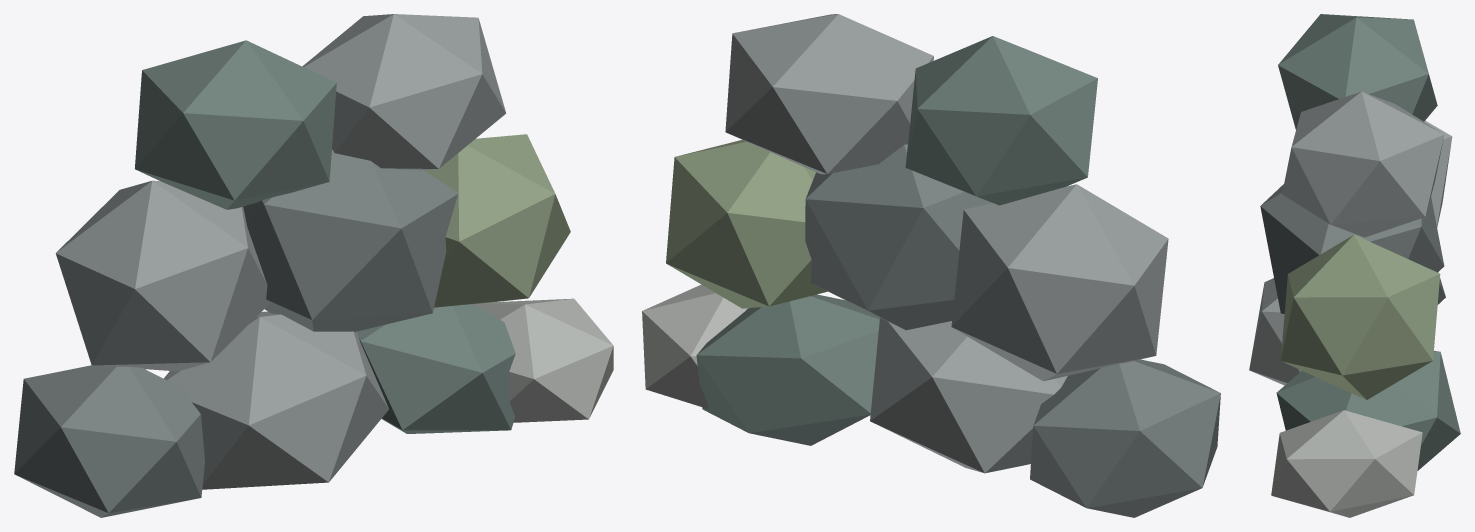
The model's file is collapsed_passage_4x3.glb.
The picture shows the model from 3 angles, left to right: view 1: azimuth 30°, elevation 25°; view 2: azimuth 150°, elevation 25°; view 3: azimuth 270°, elevation 25°; orthographic projection. The views are drawn at different scales.
Parts seen in each view (by area): view 1: collapsed_passage_05, collapsed_passage_06, collapsed_passage_08, collapsed_passage_02, collapsed_passage_01, collapsed_passage_09, collapsed_passage_07, collapsed_passage_03, collapsed_passage_04; view 2: collapsed_passage_05, collapsed_passage_08, collapsed_passage_09, collapsed_passage_01, collapsed_passage_06, collapsed_passage_03, collapsed_passage_07, collapsed_passage_02, collapsed_passage_04; view 3: collapsed_passage_07, collapsed_passage_09, collapsed_passage_04, collapsed_passage_08, collapsed_passage_03, collapsed_passage_06, collapsed_passage_02, collapsed_passage_05.
Boxes of the visible parts, bbox=[...] form: collapsed_passage_05: bbox=[55, 180, 269, 371]; collapsed_passage_06: bbox=[243, 149, 458, 331]; collapsed_passage_08: bbox=[135, 40, 336, 209]; collapsed_passage_02: bbox=[164, 311, 388, 489]; collapsed_passage_01: bbox=[14, 365, 204, 517]; collapsed_passage_09: bbox=[302, 14, 506, 170]; collapsed_passage_07: bbox=[423, 134, 570, 307]; collapsed_passage_03: bbox=[357, 304, 515, 433]; collapsed_passage_04: bbox=[474, 298, 613, 422]; collapsed_passage_05: bbox=[951, 184, 1168, 381]; collapsed_passage_08: bbox=[905, 36, 1097, 205]; collapsed_passage_09: bbox=[725, 14, 933, 174]; collapsed_passage_01: bbox=[1030, 359, 1220, 517]; collapsed_passage_06: bbox=[805, 144, 992, 330]; collapsed_passage_03: bbox=[696, 294, 879, 445]; collapsed_passage_07: bbox=[666, 140, 827, 308]; collapsed_passage_02: bbox=[870, 317, 1067, 473]; collapsed_passage_04: bbox=[642, 284, 748, 409]; collapsed_passage_07: bbox=[1280, 234, 1440, 399]; collapsed_passage_09: bbox=[1282, 91, 1444, 237]; collapsed_passage_04: bbox=[1271, 410, 1422, 517]; collapsed_passage_08: bbox=[1278, 14, 1437, 129]; collapsed_passage_03: bbox=[1276, 351, 1460, 470]; collapsed_passage_06: bbox=[1260, 184, 1444, 313]; collapsed_passage_02: bbox=[1249, 278, 1301, 385]; collapsed_passage_05: bbox=[1424, 120, 1452, 227].
Bounding box in the file's own units: 4.18 × 3.1 × 1.56.
